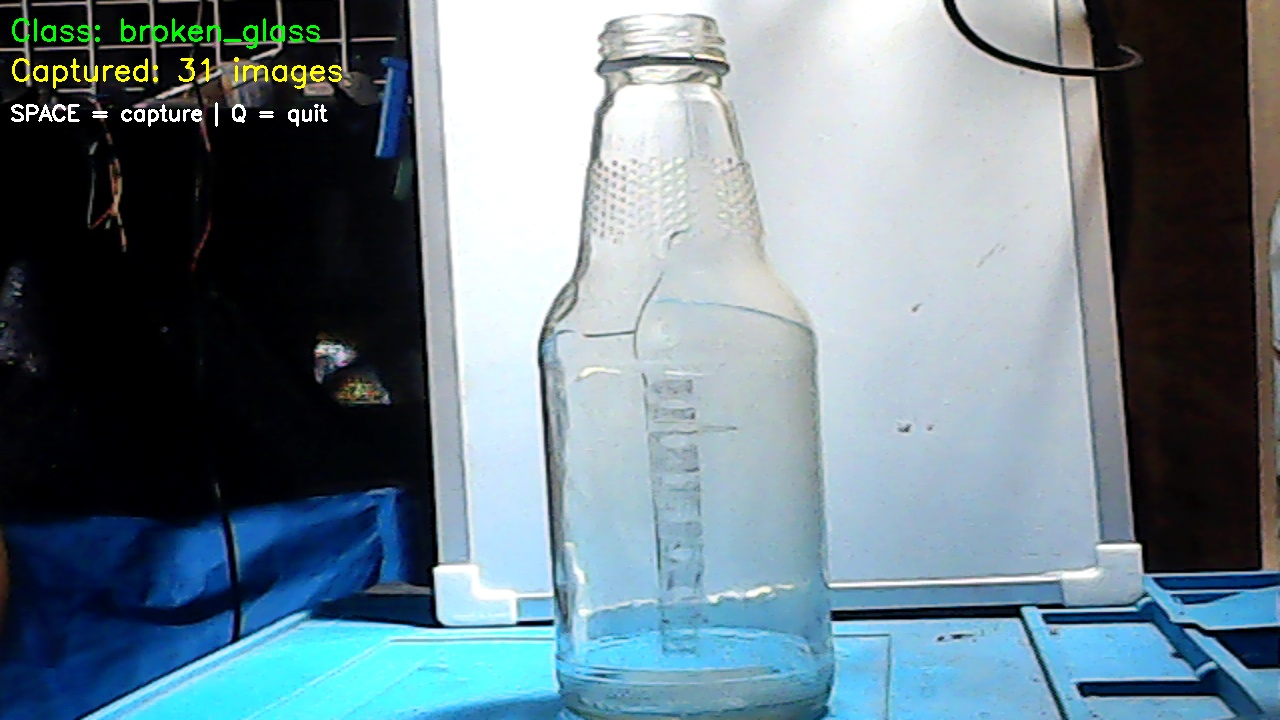broken_glass: (523, 0, 837, 720)
